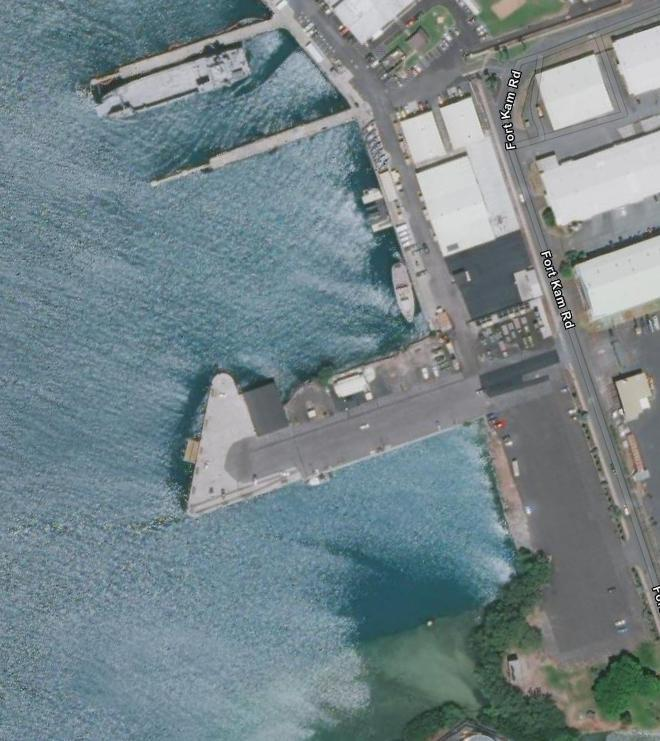barge: (97, 46, 256, 124)
